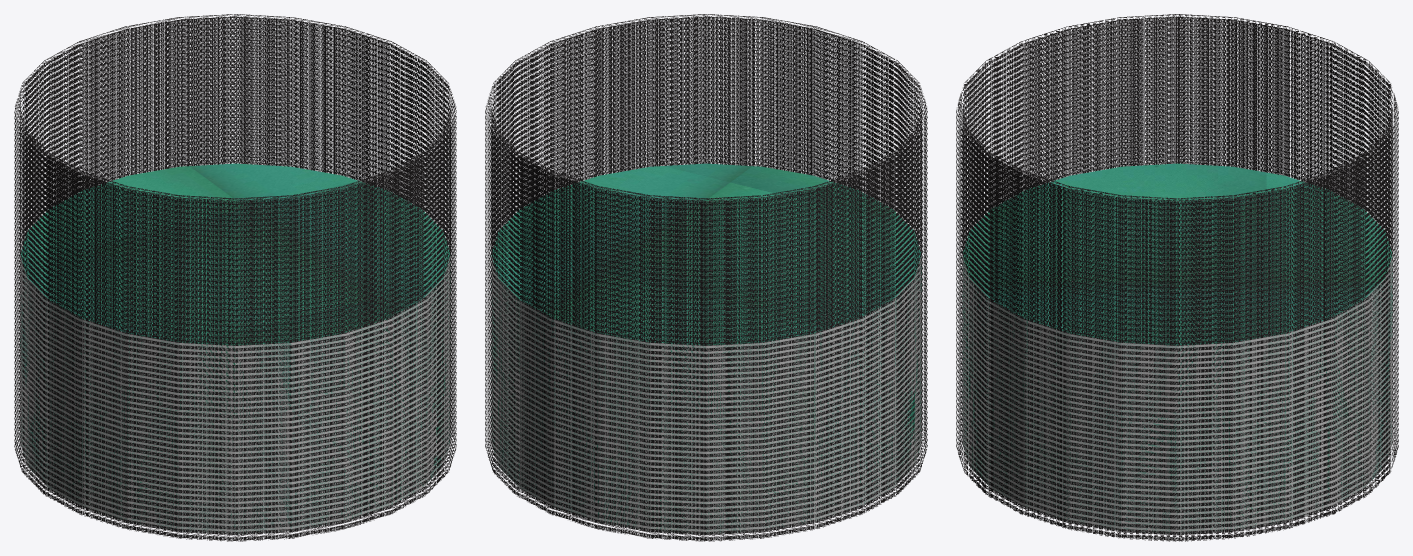
The picture shows the model from 3 angles, left to right: view 1: azimuth 30°, elevation 25°; view 2: azimuth 150°, elevation 25°; view 3: azimuth 270°, elevation 25°; orthographic projection.
Visible parts, largest first — view 1: mesh1_mesh1-geometry; view 2: mesh1_mesh1-geometry; view 3: mesh1_mesh1-geometry.
Boxes of the visible parts, box(x1,y1,x2,y2) form: mesh1_mesh1-geometry: box(14, 14, 456, 541); mesh1_mesh1-geometry: box(485, 14, 927, 541); mesh1_mesh1-geometry: box(956, 14, 1398, 541).
Size of the model in its own units: 0.6058 by 0.5159 by 0.6058.
